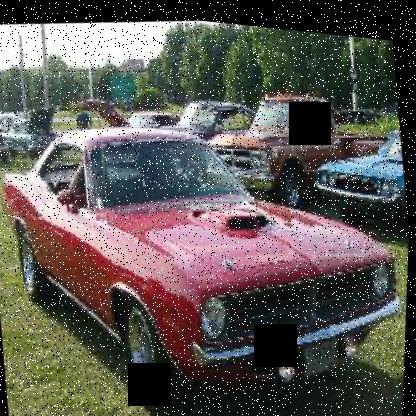not_emergency: (0, 75, 413, 415)
